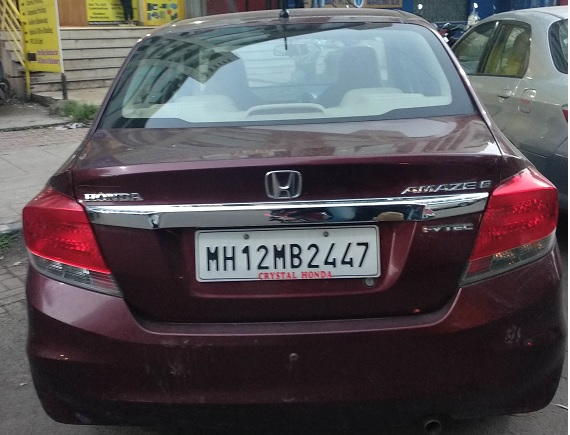licenseplate: (193, 227, 382, 281)
